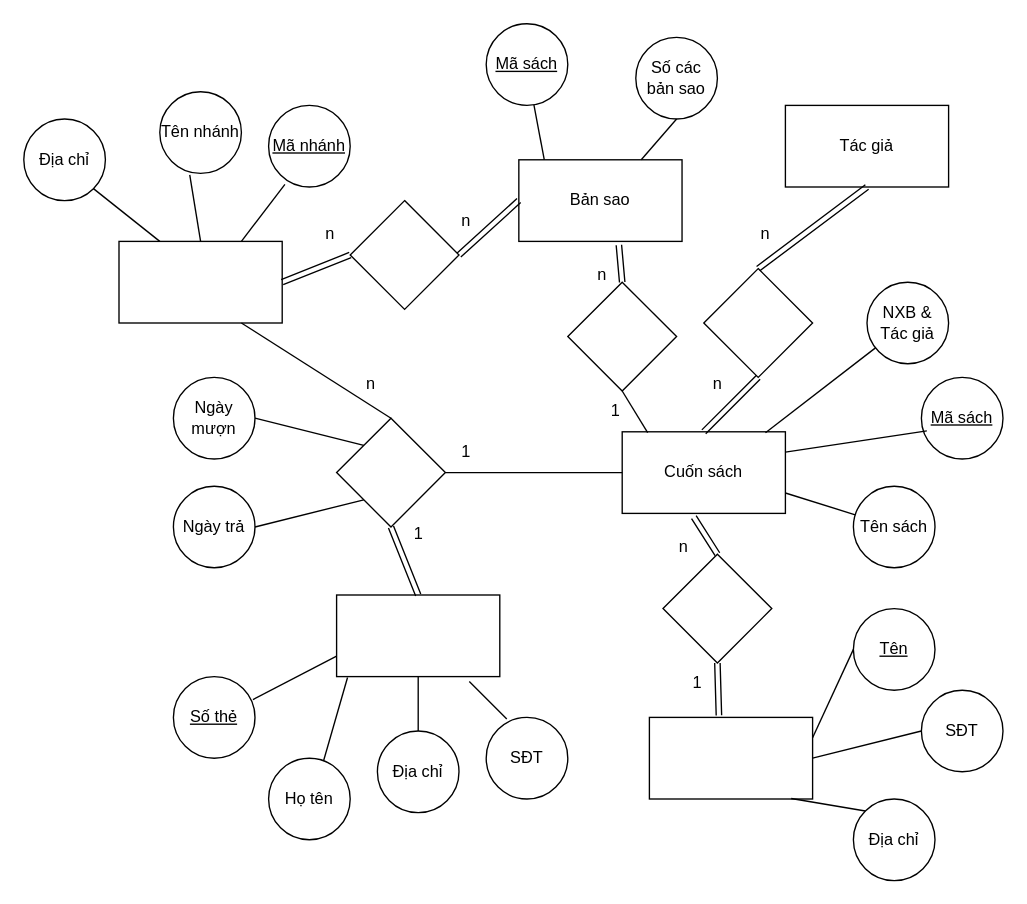
This 1027x904 diagram has some shape labels left out. Each missing label, with the box of its shape:
Cho mượn: (335, 417, 445, 527)
Có: (566, 281, 677, 391)
Lưu trữ: (349, 199, 459, 309)
Người mượn sách: (335, 594, 500, 677)
Nhà xuất bản: (648, 716, 813, 799)
Nhánh: (118, 240, 282, 323)
Viết: (702, 267, 813, 377)
Xuất bản: (662, 553, 772, 663)
